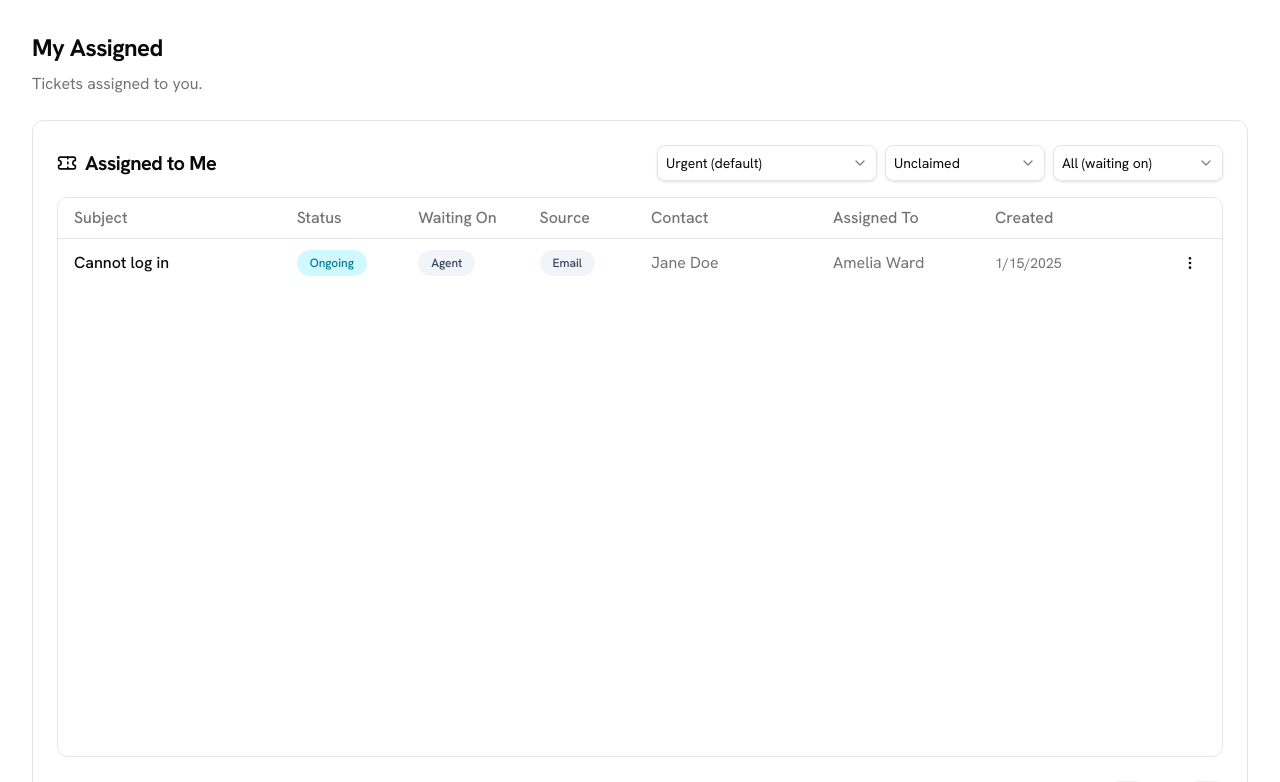
Test: TicketListPage (My Assigned props) › supports Cancel (with confirmation dialog) and updates the row in place from the mutation response
Click the button named "More options" at (1190, 262), box left=1174, top=246, right=1206, bottom=278
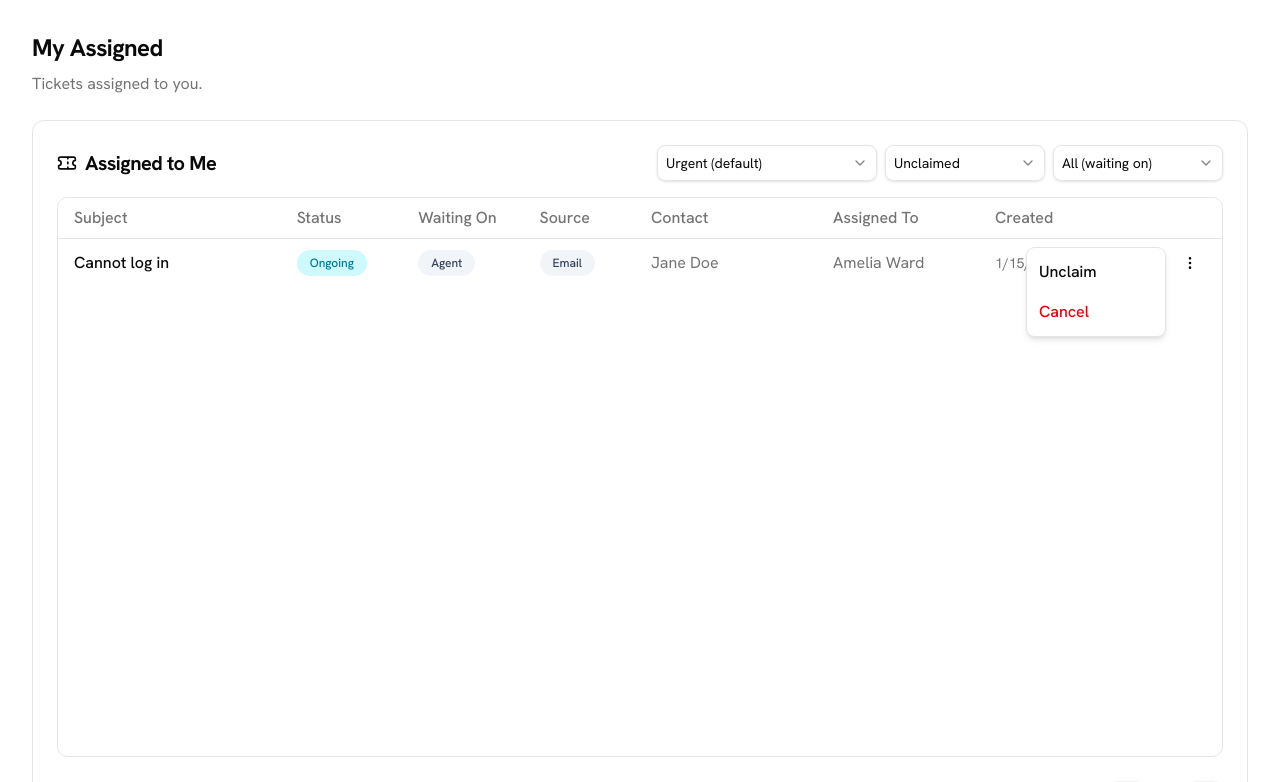
Click the menu item "Cancel" at (1064, 312), box left=1039, top=301, right=1089, bottom=322
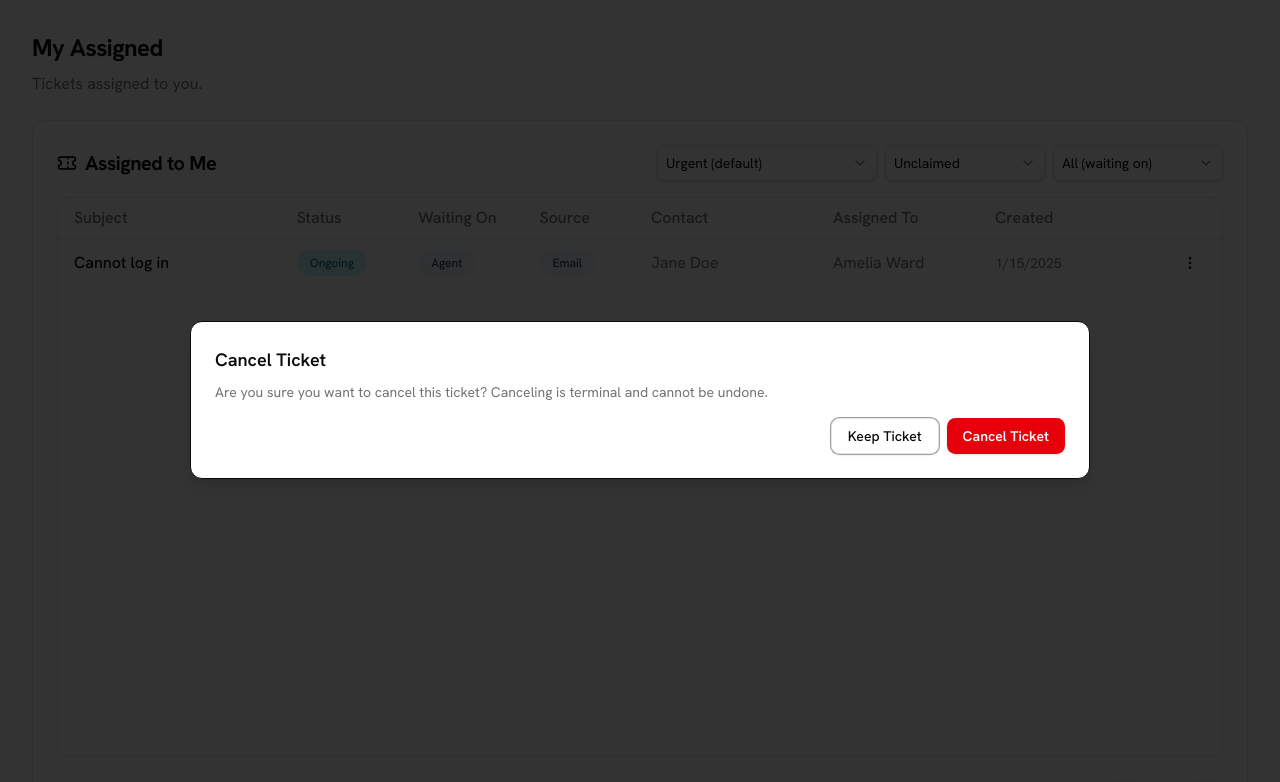
Click the button "Cancel Ticket" at (1006, 436), box left=947, top=418, right=1065, bottom=454
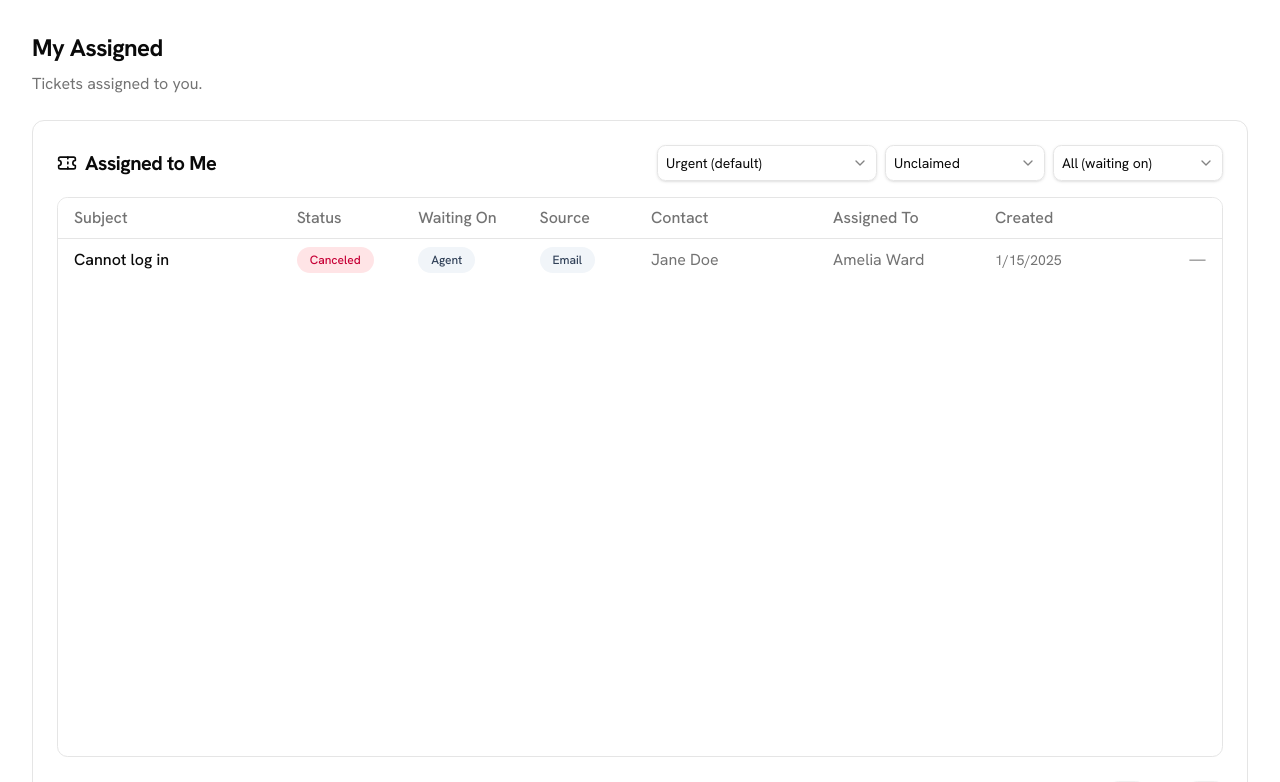
Check: the text "Cannot log in" is shown, box left=58, top=238, right=281, bottom=280
Check: the text "Canceled" is shown, box left=297, top=246, right=374, bottom=272
